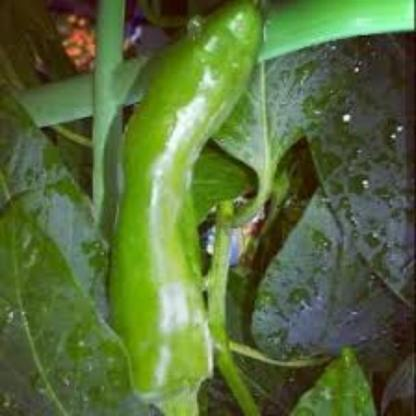hot pepper: (92, 2, 271, 416)
